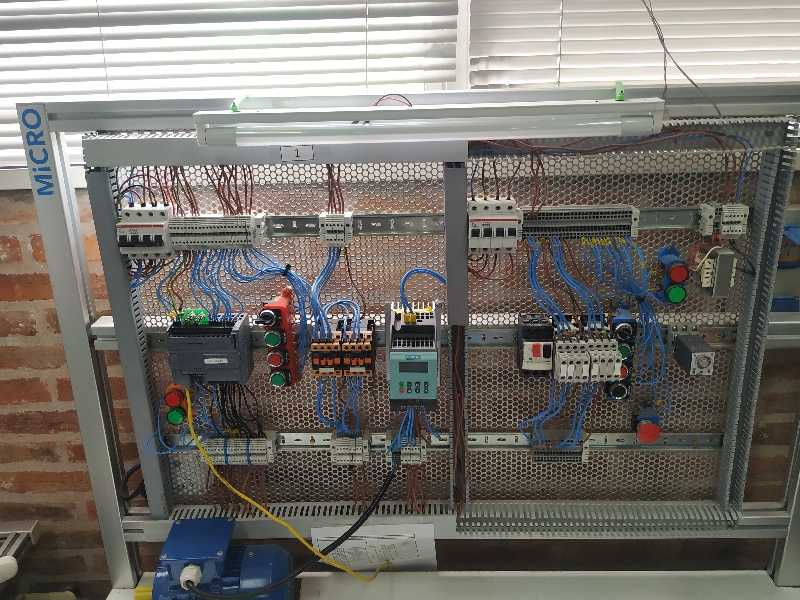Tablero 1: (96, 150, 748, 522)
